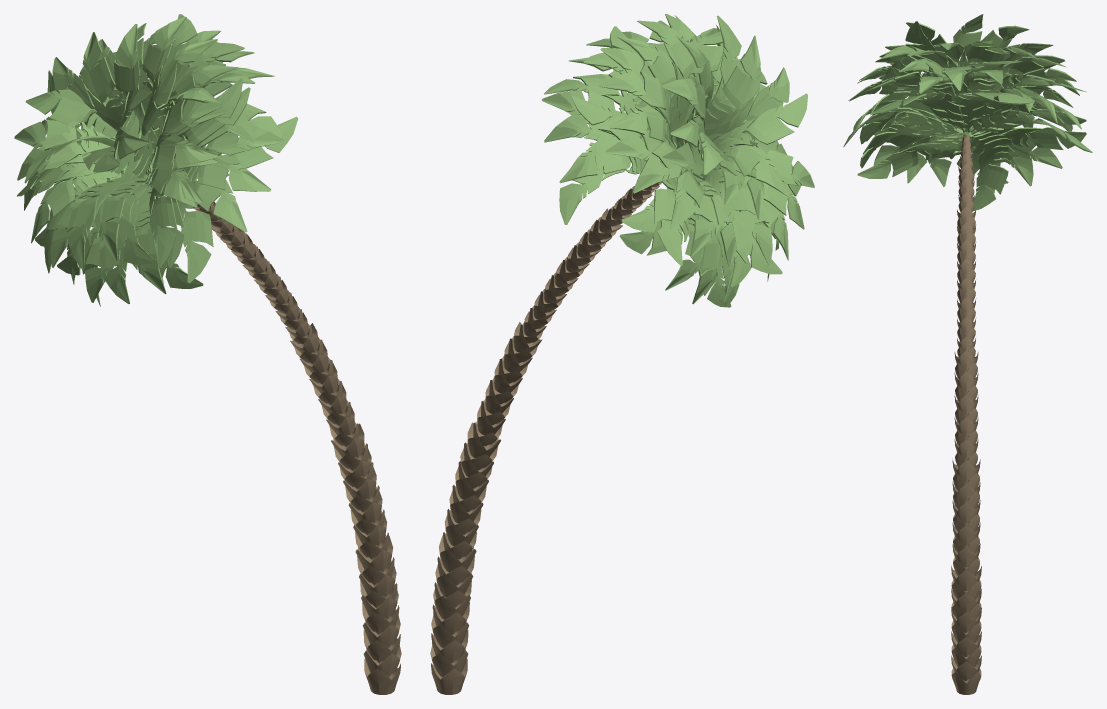
The model's file is palmTree_mdl_v001.fbx.
3 views of the same model, side by side, from view 1: azimuth 30°, elevation 25°; view 2: azimuth 150°, elevation 25°; view 3: azimuth 270°, elevation 25° (orthographic). The views are drawn at different scales.
Parts seen in each view (by area): view 1: pCube128, pCube132, pCube92, pCube109, pCube111, pCube134, pCube98, pCube131, pCube93, pCube139, pCube84, pCube105 (+30 smaller); view 2: pCube138, pCube126, pCube127, pCube135, pCube125, pCube82, pCube77, pCube69, pCube119, pCube118, pCube83, pCube78 (+31 smaller); view 3: pCube102, pCube107, pCube118, pCube103, pCube119, pCube115, pCube113, pCube101, pCube109, pCube117, pCube104, pCube116 (+20 smaller).
Part boxes in pixels (x1,y1,x2,y2): pCube128: [82, 32, 155, 135]; pCube132: [25, 89, 116, 137]; pCube92: [67, 174, 146, 270]; pCube109: [177, 180, 213, 283]; pCube111: [182, 151, 271, 191]; pCube134: [17, 127, 137, 180]; pCube98: [31, 169, 125, 243]; pCube131: [113, 24, 158, 145]; pCube93: [94, 176, 146, 260]; pCube139: [133, 62, 176, 178]; pCube84: [149, 187, 177, 268]; pCube105: [99, 182, 152, 303]; pCube138: [675, 35, 761, 144]; pCube126: [718, 93, 807, 157]; pCube127: [692, 133, 788, 196]; pCube135: [704, 67, 789, 149]; pCube125: [698, 156, 755, 250]; pCube82: [637, 20, 698, 145]; pCube77: [599, 71, 671, 140]; pCube69: [654, 161, 683, 265]; pCube119: [559, 136, 640, 224]; pCube118: [544, 74, 642, 112]; pCube83: [617, 36, 687, 144]; pCube78: [608, 105, 670, 144]; pCube102: [970, 131, 1012, 211]; pCube107: [857, 132, 971, 178]; pCube118: [946, 92, 1033, 132]; pCube103: [963, 127, 1086, 149]; pCube119: [971, 109, 1092, 152]; pCube115: [870, 91, 972, 132]; pCube113: [881, 111, 973, 135]; pCube101: [964, 127, 1062, 168]; pCube109: [860, 123, 962, 168]; pCube117: [963, 70, 1002, 131]; pCube104: [873, 130, 967, 165]; pCube116: [919, 76, 976, 132].
Bounding box in the file's own units: 62256 × 117030 × 45341.
